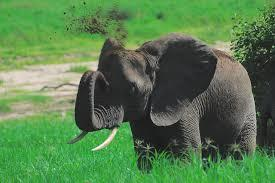elephant: (69, 33, 256, 169)
